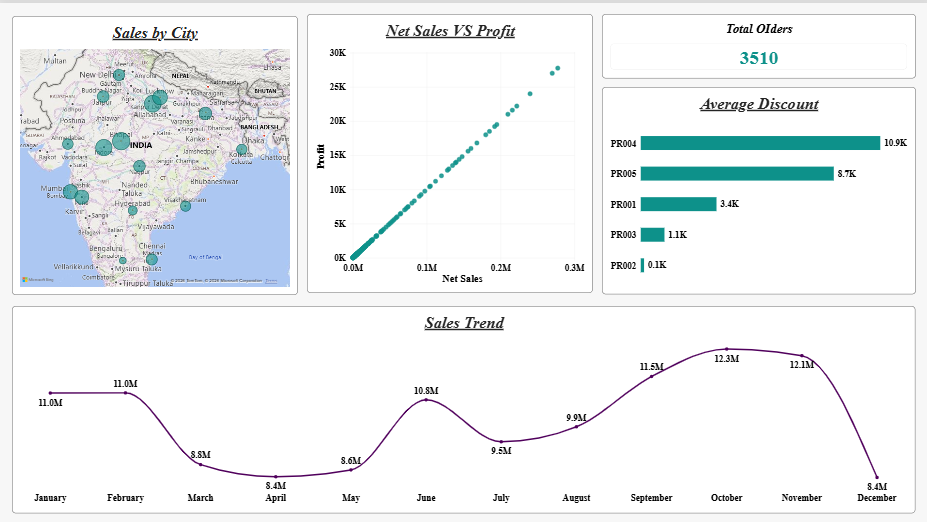

What the dashboard file says about the page in this screenshot:
{"tool":"powerbi","page":{"name":"Overview","canvas":[1920,1080],"ordinal":0},"visuals":[{"type":"lineChart","title":"Sales Trend","fields":{"Category":["Sales.Date (dd/mm/yyyy).Variation.Date Hierarchy.Year","Sales.Date (dd/mm/yyyy).Variation.Date Hierarchy.Quarter","Sales.Date (dd/mm/yyyy).Variation.Date Hierarchy.Month","Sales.Date (dd/mm/yyyy).Variation.Date Hierarchy.Day"],"Y":["Sum(Sales.Net Sales)"]},"box":[25,625,1865,427.5],"z":0},{"type":"map","title":"Sales by City","fields":{"Category":["Dim Customers.City"],"Size":["Sum(Sales.Net Sales)"]},"box":[24,26,589.7,575.6],"z":1000},{"type":"scatterChart","title":"Net Sales VS Profit","fields":{"X":["Sales.Net Sales"],"Y":["Sales.Profit"]},"box":[633.1,22.5,590,576],"z":2000},{"type":"barChart","title":"Average Discount ","fields":{"Category":["Sales.PromotionID"],"Y":["Avg(Sales.Discount Value)"]},"box":[1242.5,172.5,647.5,427.5],"z":3000},{"type":"cardVisual","title":"Total OIders","fields":{"Data":["CountNonNull(Sales.Index)"]},"box":[1242.5,22.5,647.5,132.5],"z":4000}]}

Visuals, with their boxes in screenshot pixels (x1, y1, x2, y2), scaled from the page's 1920x1080 canvas onto the 927x522 screenshot:
"Sales Trend" lineChart: (x1=12, y1=302, x2=913, y2=509)
"Sales by City" map: (x1=12, y1=13, x2=296, y2=291)
"Net Sales VS Profit" scatterChart: (x1=306, y1=11, x2=591, y2=289)
"Average Discount " barChart: (x1=600, y1=83, x2=913, y2=290)
"Total OIders" cardVisual: (x1=600, y1=11, x2=913, y2=75)
